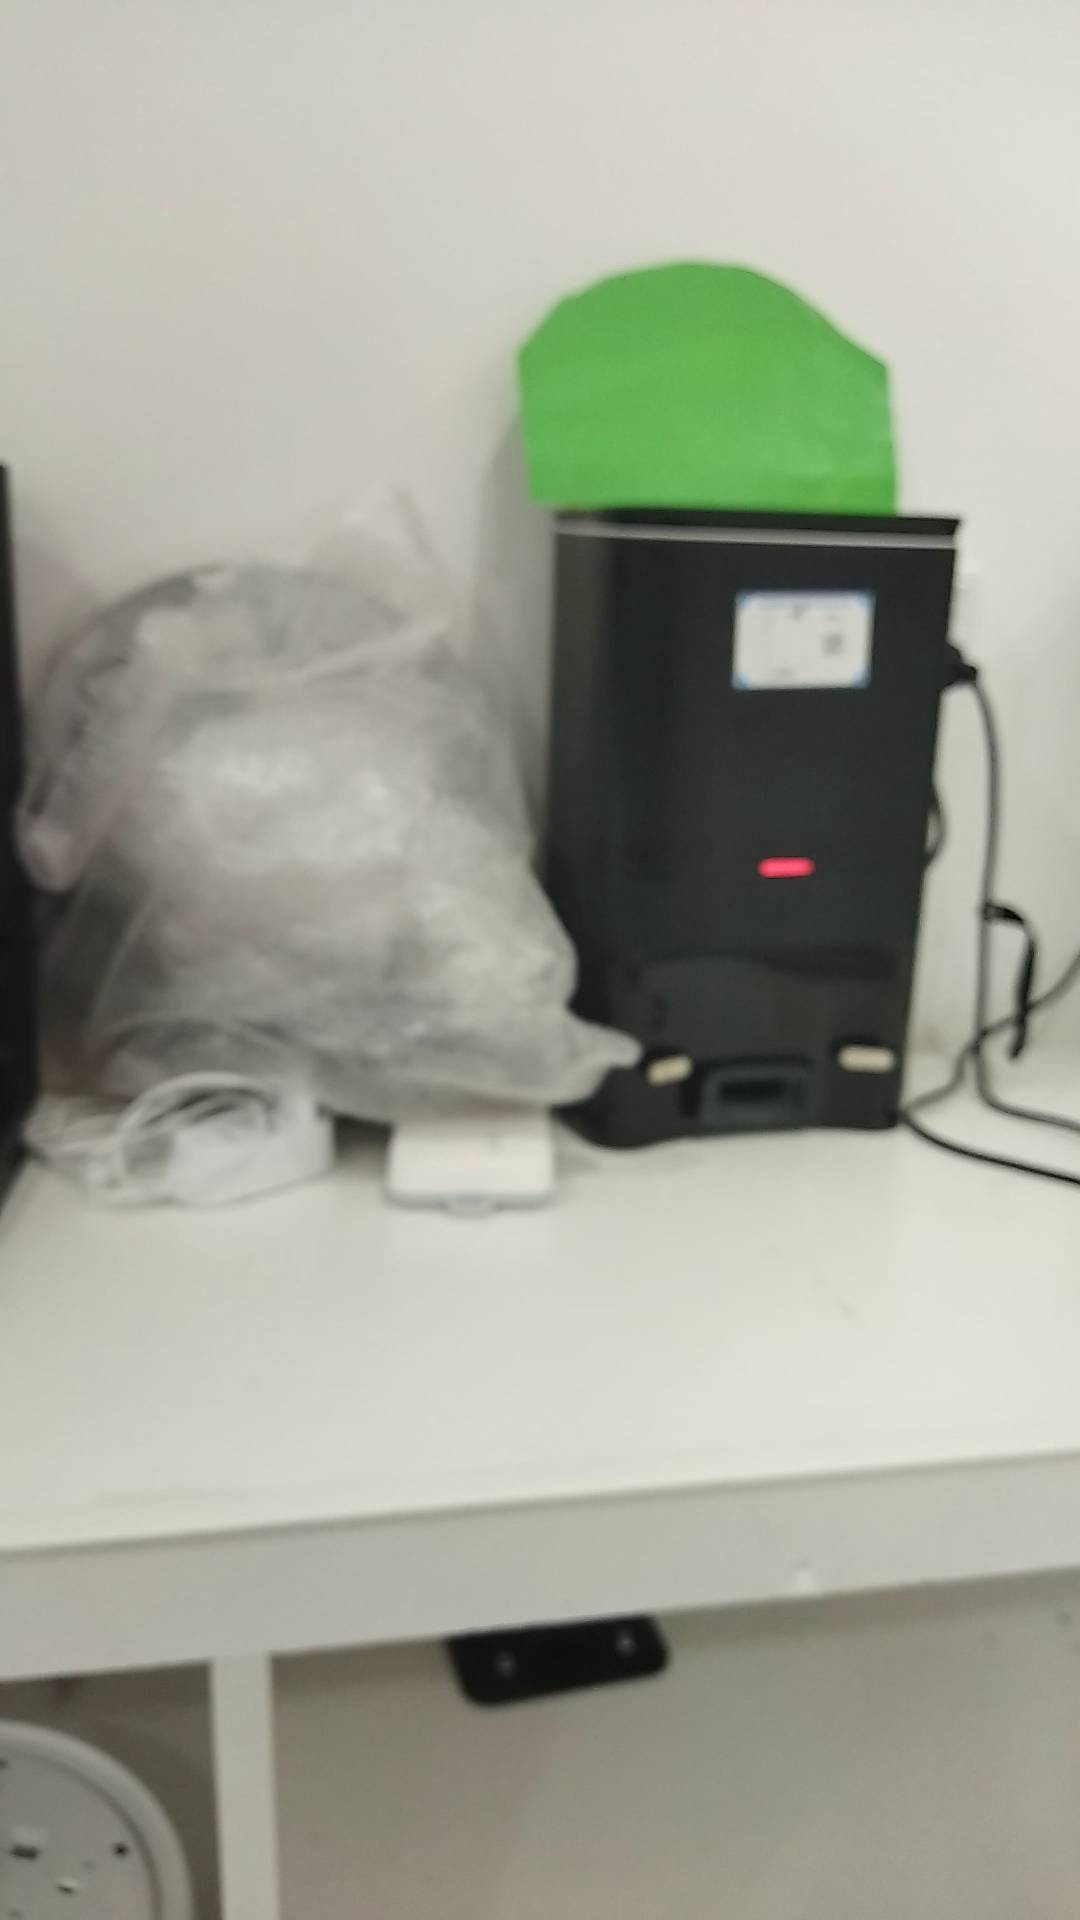dust collecting barrel: (550, 504, 959, 1153)
